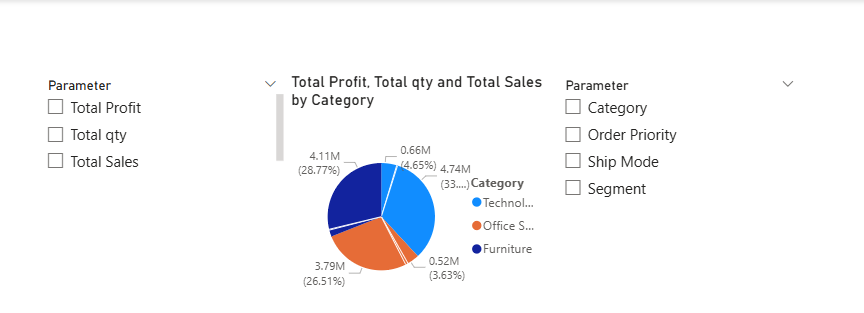

What the dashboard file says about the page in this screenshot:
{"tool":"powerbi","page":{"name":"Parameter","canvas":[1280,720],"ordinal":4},"visuals":[{"type":"pieChart","fields":{"Category":["Orders.Category","Orders.Order Priority","Orders.Ship Mode","Orders.Segment"],"Y":["Orders.Total Profit","Orders.Total qty","Orders.Total Sales"]},"box":[608,80,288,272],"z":0},{"type":"slicer","fields":{"Values":["Parameter.Parameter"]},"box":[896,80,272,144],"z":1000},{"type":"slicer","fields":{"Values":["Parameter 3.Parameter"]},"box":[336,80,272,112],"z":2000}]}

Visuals, with their boxes on the page's 1280x720 design canvas (x1, y1, x2, y2). These are canvas units, not pixel positions in the 864x313 screenshot, which may show the page scaled, cropped or inside an application window:
pieChart - Orders.Category x Orders.Order Priority: [608, 80, 896, 352]
slicer - Parameter.Parameter: [896, 80, 1168, 224]
slicer - Parameter 3.Parameter: [336, 80, 608, 192]
